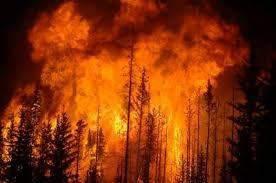fire: (24, 16, 244, 174)
